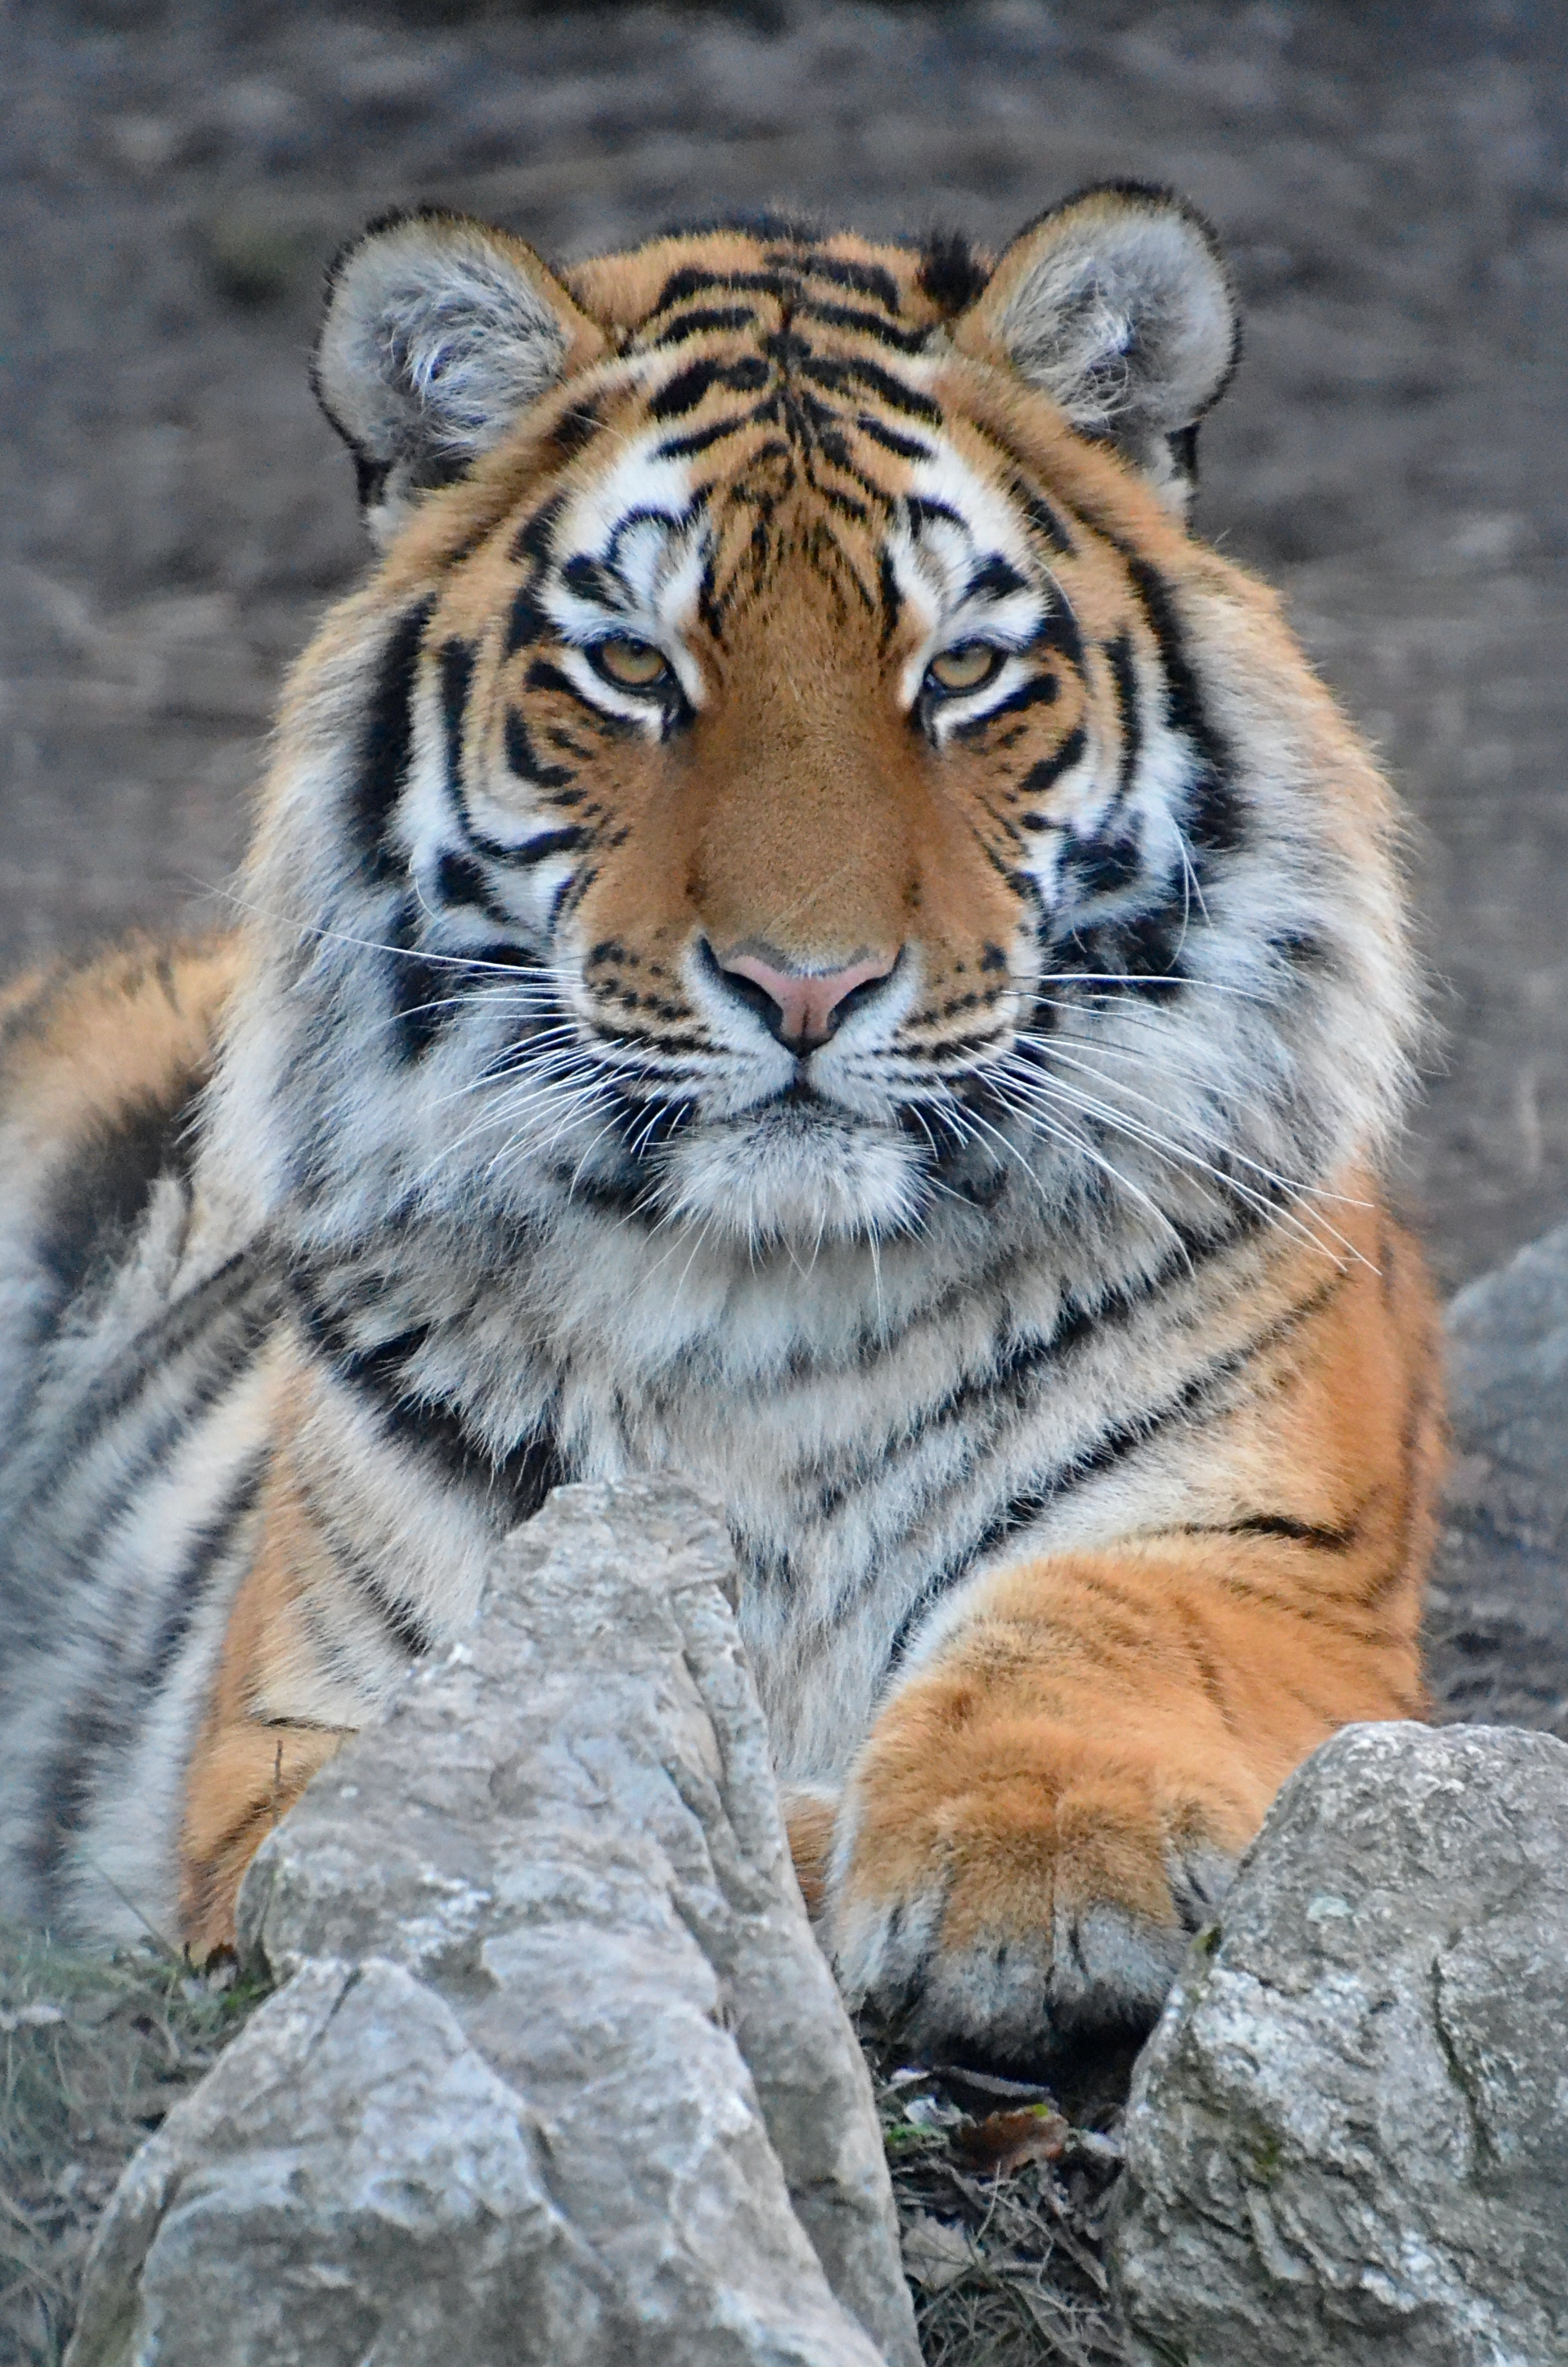tiger: (136, 178, 1473, 2089)
